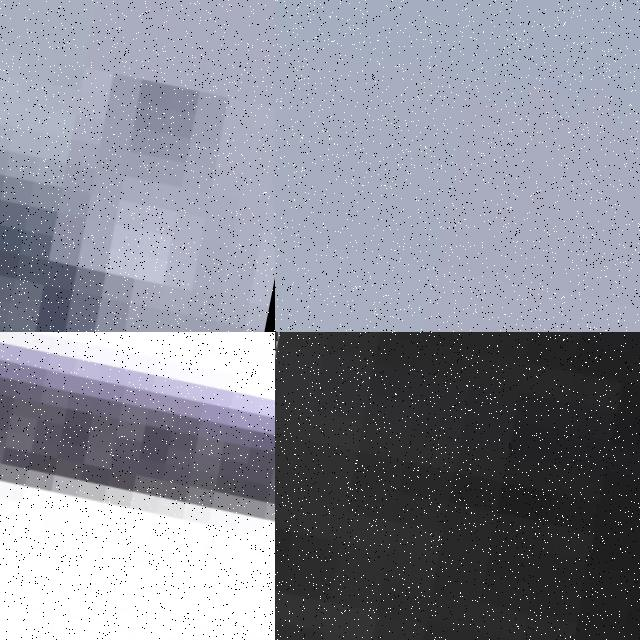0: (0, 0, 275, 332)
drone: (275, 332, 640, 640), (0, 332, 275, 640)
